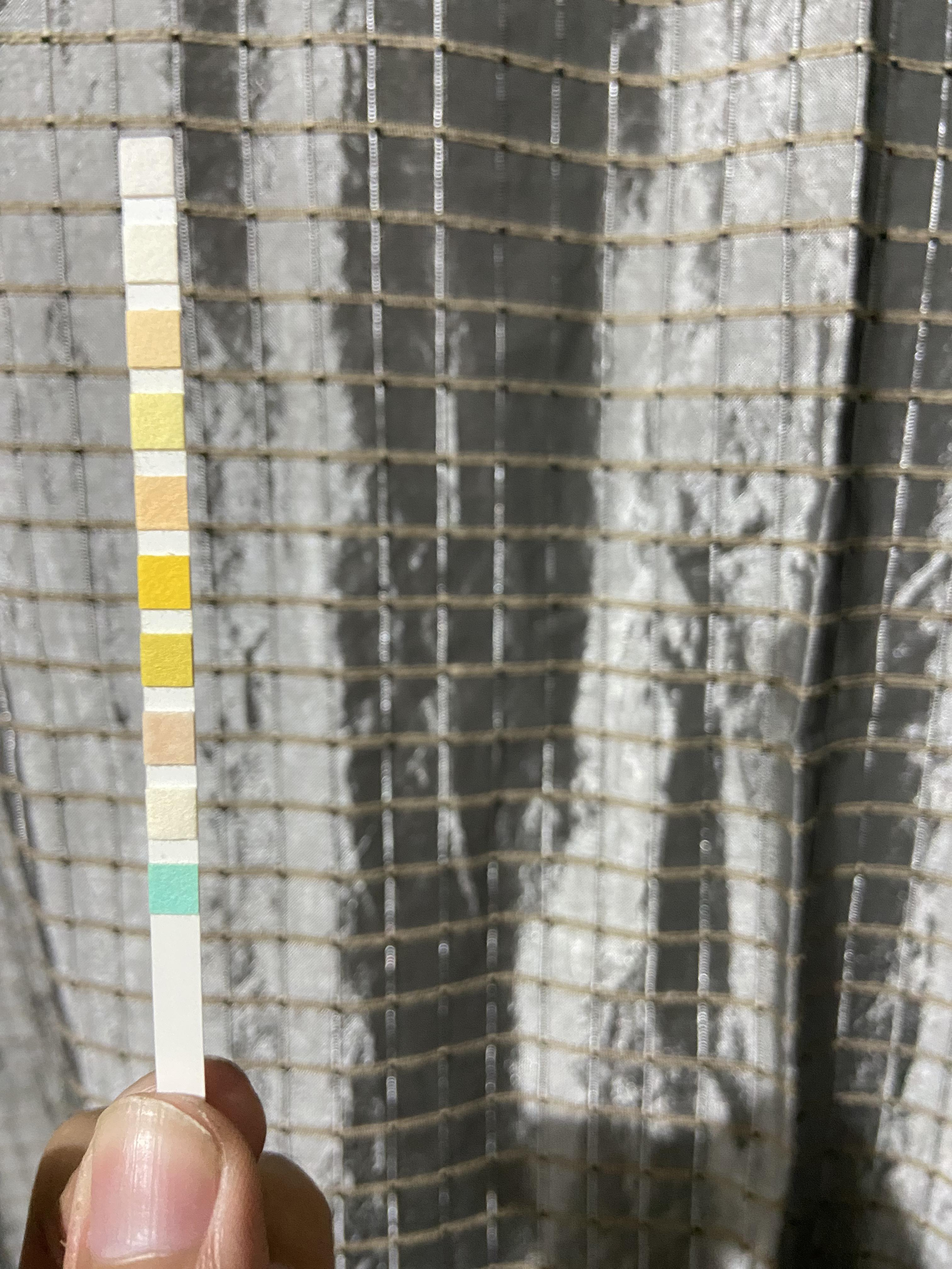Bilirubin: (151, 794, 192, 837)
Blood: (142, 559, 188, 608)
Glucose: (152, 868, 196, 910)
Ketone: (149, 717, 189, 760)
Leukocytes: (125, 143, 171, 190)
Nitrite: (129, 227, 175, 278)
Protein: (135, 397, 180, 446)
SpGravity: (147, 638, 189, 683)
Urobilinogen: (132, 315, 178, 366)
pH: (140, 480, 183, 525)
strip: (119, 142, 204, 1087)
